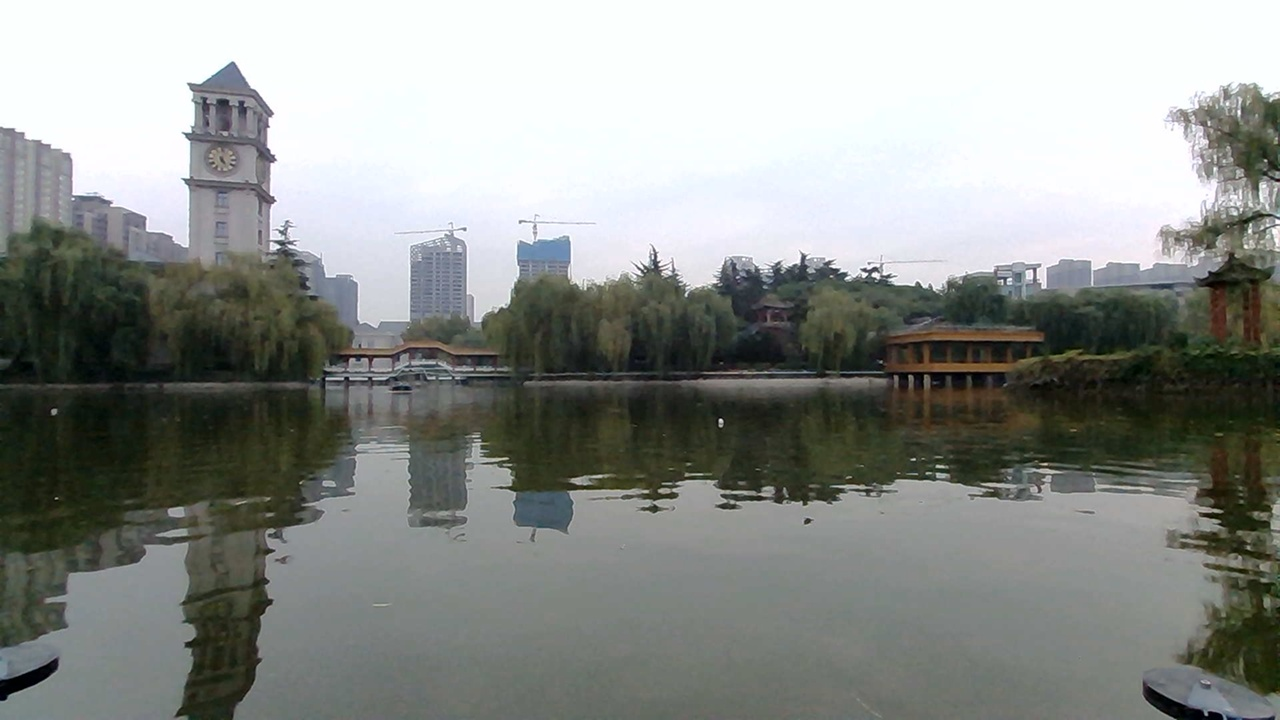bottle: (703, 406, 737, 431)
